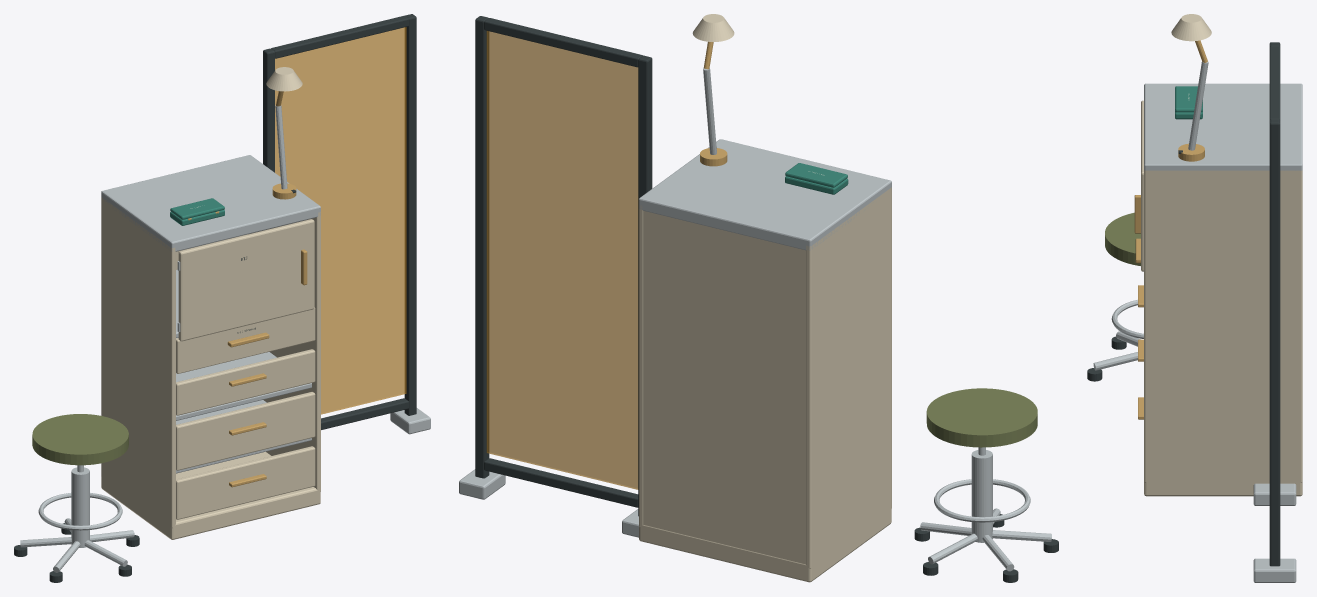
Rendered from lab-support.glb.
3 views of the same model, side by side, from view 1: azimuth 30°, elevation 25°; view 2: azimuth 150°, elevation 25°; view 3: azimuth 270°, elevation 25° (orthographic). The views are drawn at different scales.
Visible parts, largest first — view 1: AMBER_PANE, cabinet_cheek, upper_door_panel, CABINET_CROWN, fixed_drawer_face.001, fixed_drawer_face, panel_stile.001, fixed_drawer_face.002, CABINET_PLINTH, drawer_face, seat_cushion, cabinet_cheek.001 (+11 smaller); view 2: AMBER_PANE, cabinet_rear, cabinet_cheek, CABINET_CROWN, panel_stile.001, seat_cushion, CABINET_PLINTH, panel_stile, panel_rail.001, panel_rail, stool_pedestal, cabinet_cheek.001 (+4 smaller); view 3: cabinet_cheek.001, CABINET_CROWN, panel_stile.001, CABINET_PLINTH, seat_cushion, panel_foot.001, panel_rail.001, lampshade, panel_foot, lamp_mast, case_lid, upper_door_panel (+3 smaller).
Part boxes in pixels (x1,y1,x2,y2): AMBER_PANE: [275, 27, 406, 414]; cabinet_cheek: [101, 197, 175, 528]; upper_door_panel: [178, 219, 314, 341]; CABINET_CROWN: [101, 155, 320, 251]; fixed_drawer_face.001: [176, 392, 315, 470]; fixed_drawer_face: [176, 446, 315, 519]; panel_stile.001: [404, 14, 416, 415]; fixed_drawer_face.002: [176, 349, 315, 415]; CABINET_PLINTH: [101, 451, 320, 539]; drawer_face: [176, 307, 315, 373]; seat_cushion: [32, 414, 128, 465]; cabinet_cheek.001: [248, 212, 320, 491]; AMBER_PANE: [486, 31, 638, 489]; cabinet_rear: [643, 211, 805, 564]; cabinet_cheek: [806, 187, 891, 568]; CABINET_CROWN: [639, 139, 891, 250]; panel_stile.001: [475, 16, 489, 478]; seat_cushion: [926, 388, 1037, 447]; CABINET_PLINTH: [639, 508, 891, 582]; panel_stile: [638, 55, 652, 516]; panel_rail.001: [484, 18, 642, 67]; panel_rail: [484, 458, 638, 507]; stool_pedestal: [971, 450, 992, 542]; cabinet_cheek.001: [639, 205, 643, 527]; cabinet_cheek.001: [1144, 170, 1302, 482]; CABINET_CROWN: [1144, 83, 1302, 170]; panel_stile.001: [1269, 119, 1280, 566]; CABINET_PLINTH: [1144, 480, 1302, 496]; seat_cushion: [1105, 212, 1140, 265]; panel_foot.001: [1253, 558, 1296, 582]; panel_rail.001: [1269, 46, 1280, 120]; lampshade: [1171, 14, 1211, 41]; panel_foot: [1253, 483, 1296, 505]; lamp_mast: [1188, 61, 1208, 150]; case_lid: [1175, 86, 1202, 112]; upper_door_panel: [1141, 100, 1143, 271].
Bounding box in the file's own units: 1.83 × 1.67 × 0.6924.
